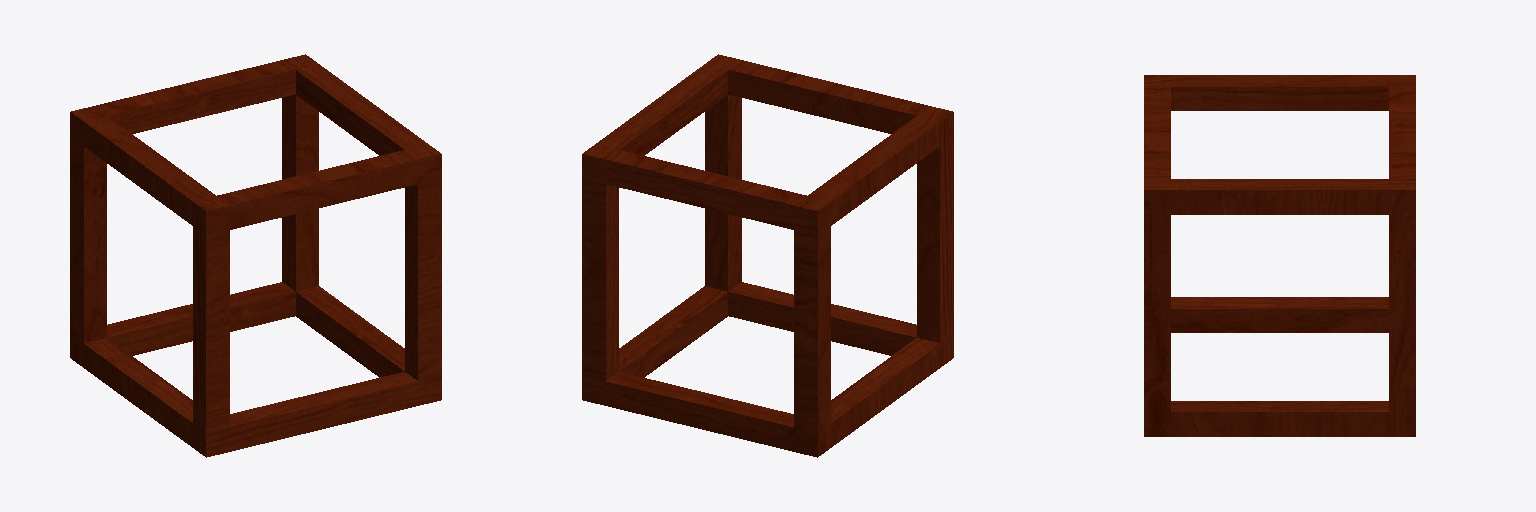
The picture shows the model from 3 angles: view 1: azimuth 30°, elevation 25°; view 2: azimuth 150°, elevation 25°; view 3: azimuth 270°, elevation 25°; orthographic projection.
Parts seen in each view (by area): view 1: Cube; view 2: Cube; view 3: Cube.
Part boxes in pixels (bbox=[...]): Cube: bbox=[70, 54, 441, 457]; Cube: bbox=[582, 54, 953, 457]; Cube: bbox=[1144, 75, 1415, 436].
Size of the model in its own units: 2 by 2 by 2.
1 materials, 1 textured.